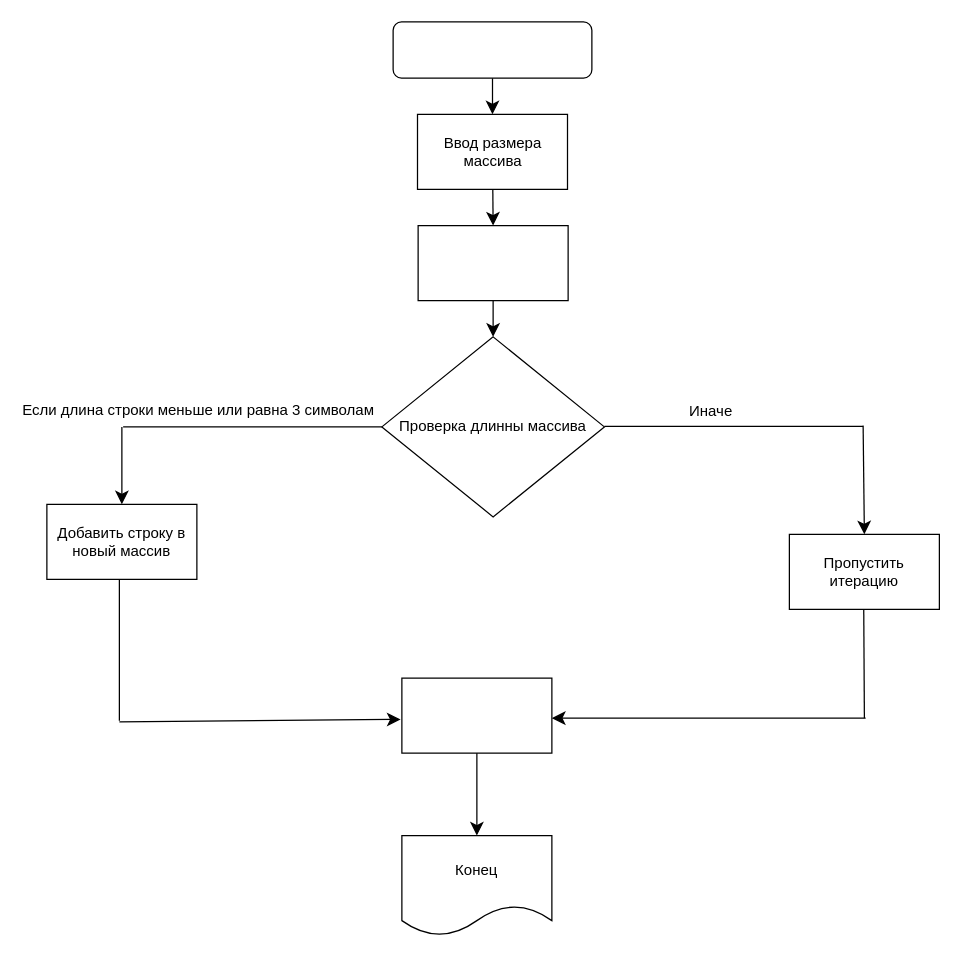
Image size: 961x958. Some labels were removed from this diagram. The centre of each missing label's shape, as x and y in pixels:
Вывод нового массива строк: point (476, 715)
Начало: point (492, 49)
Создание строк массива указанного размера: point (492, 262)
